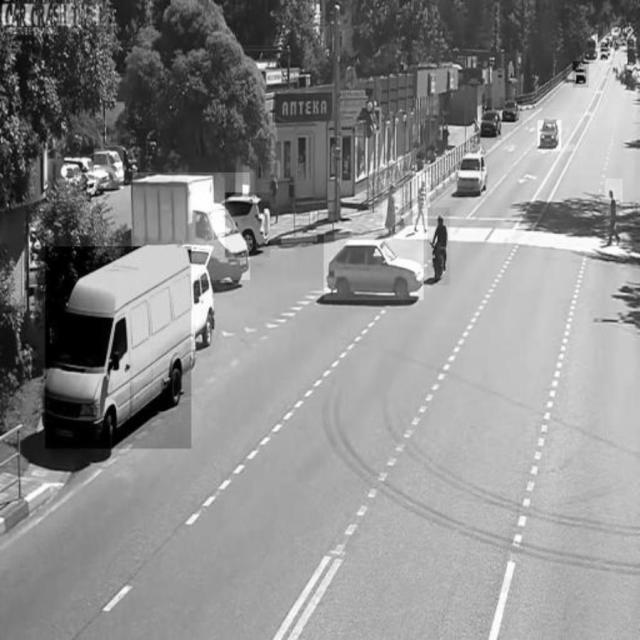person: (605, 179, 622, 253), (413, 173, 430, 235), (383, 179, 400, 235)
vehicle: (45, 248, 191, 450), (133, 173, 251, 281), (324, 235, 424, 299), (225, 192, 270, 256), (428, 208, 450, 285), (456, 151, 488, 197), (94, 149, 124, 189), (538, 121, 562, 151), (480, 108, 500, 140), (501, 97, 523, 125), (573, 62, 589, 88)
